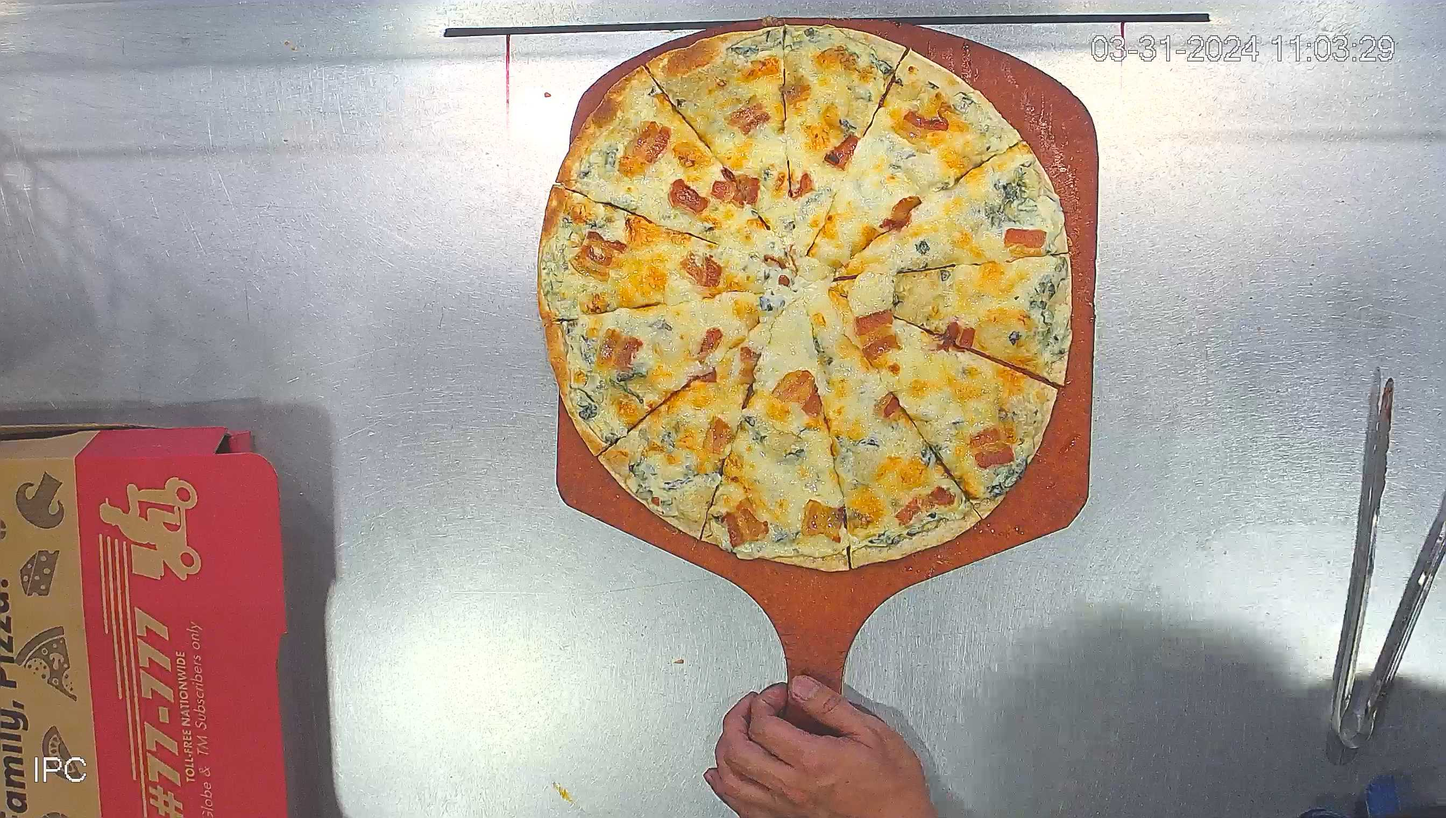pepporoni: (534, 19, 1074, 573)
